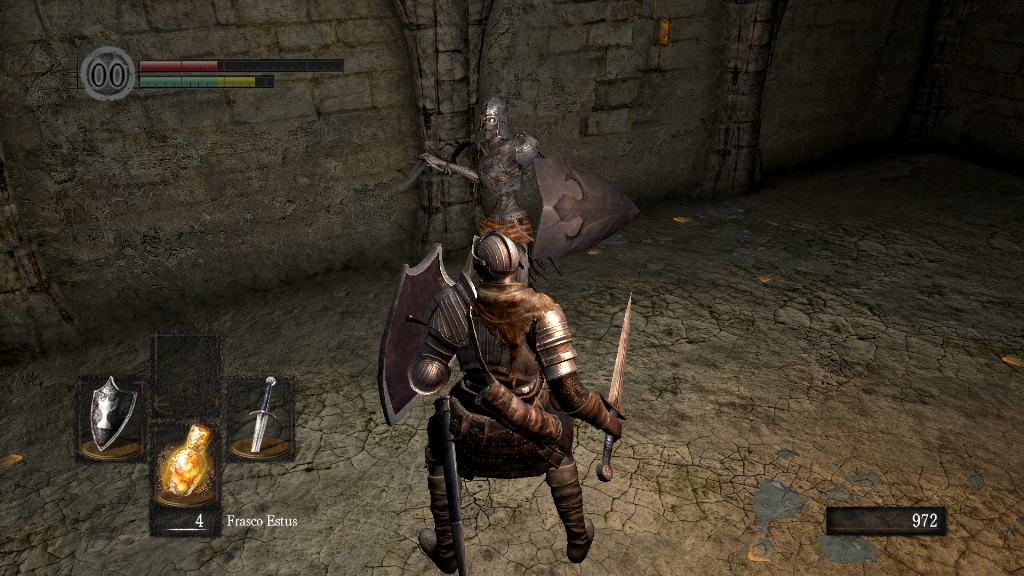health: (138, 58, 343, 71)
humanity: (80, 45, 136, 102)
player: (377, 232, 636, 576)
souls: (825, 506, 945, 536)
stamina: (138, 74, 274, 88)
undeadSoldier: (425, 97, 545, 284)
